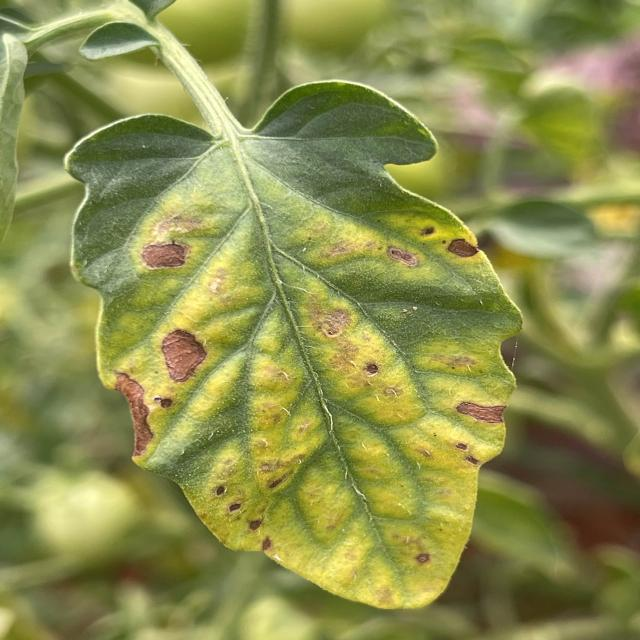tomato_early blight: (58, 80, 528, 619)
